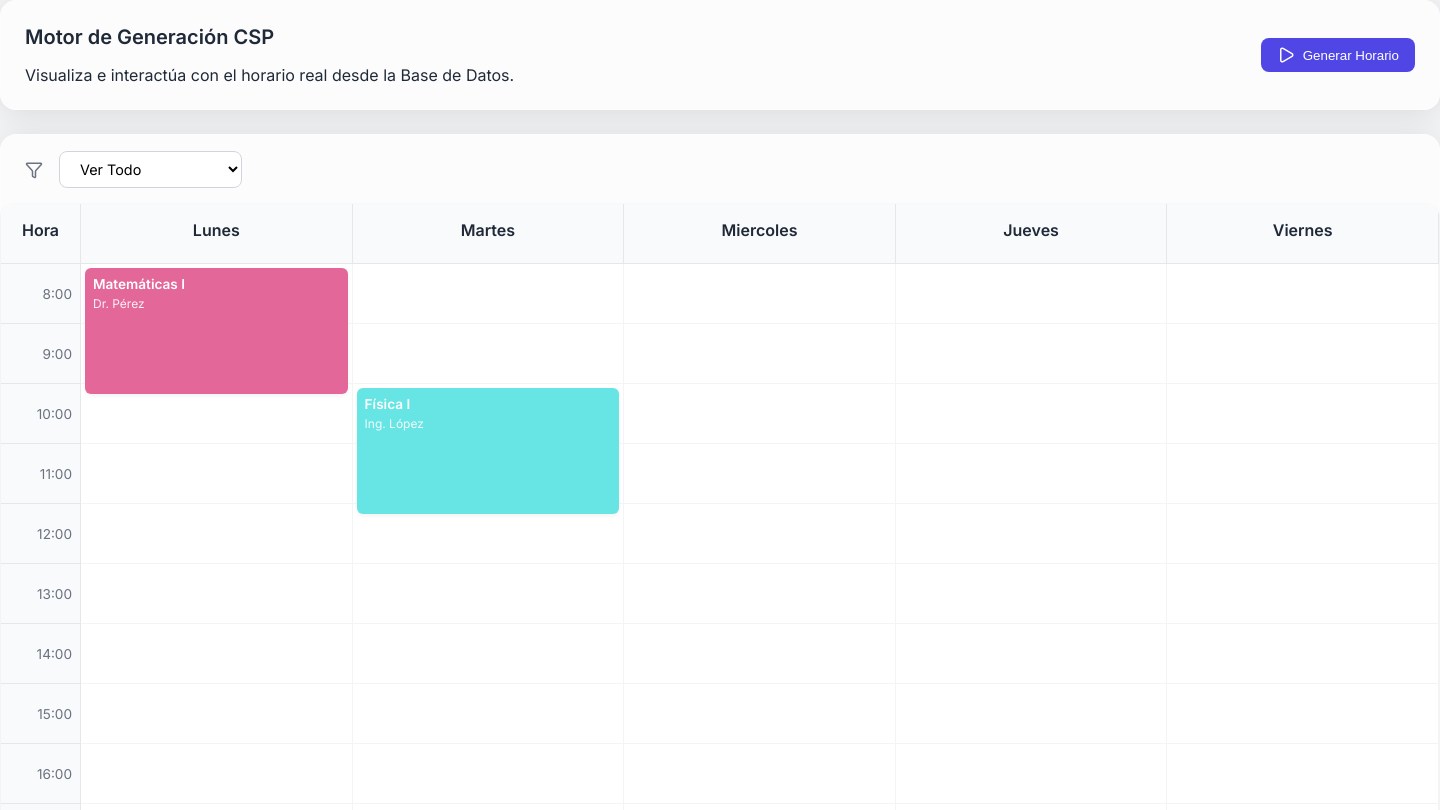
Test case: ScheduleGrid › cierra modal al hacer click en Cerrar
What coordinates should you click on to do the following:
click the text "Dr. Pérez"
I would click on:
 (119, 304)
Its box is [93,296,145,311].
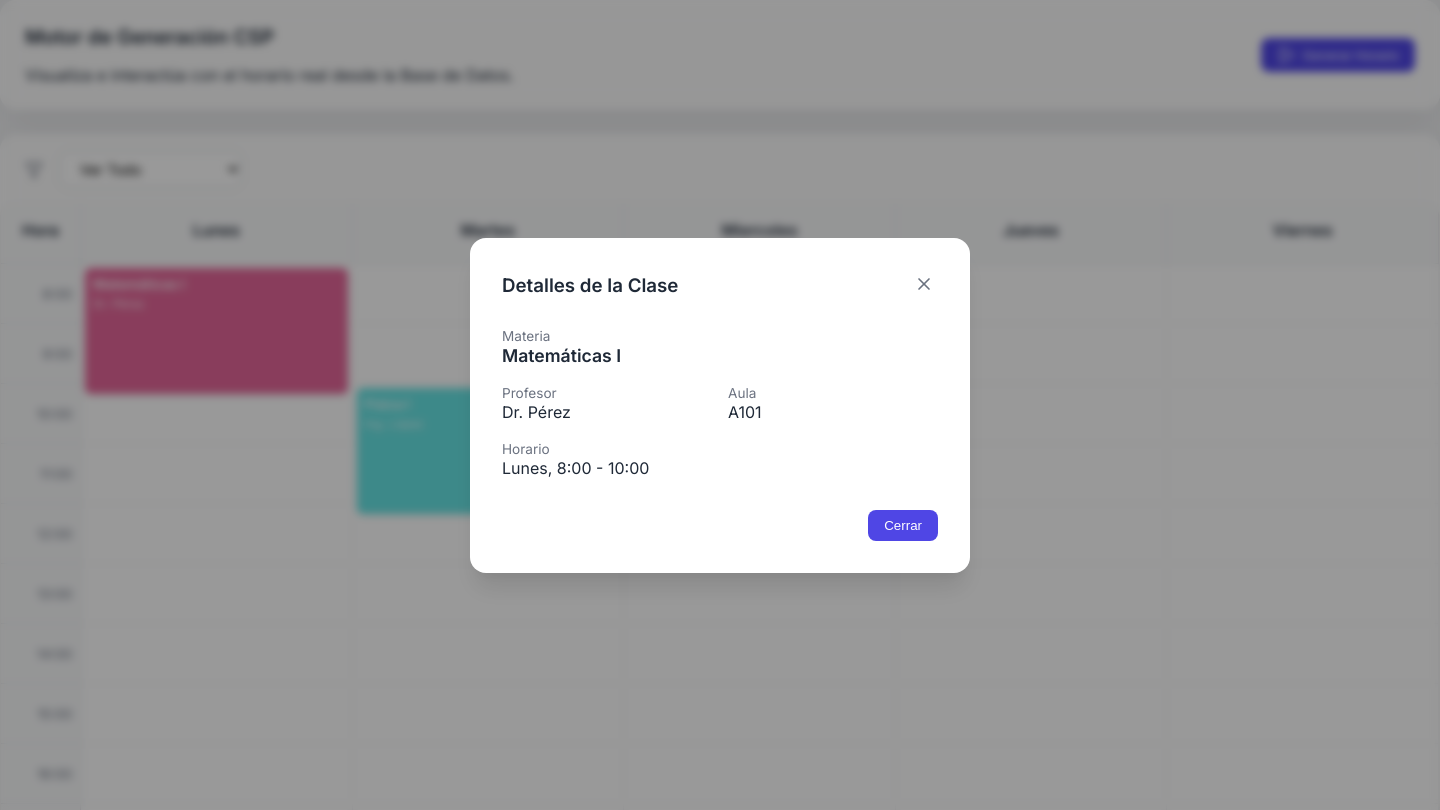
What coordinates should you click on to do the following:
click the button "Cerrar"
I would click on:
 (903, 525)
Its box is [868,510,938,540].
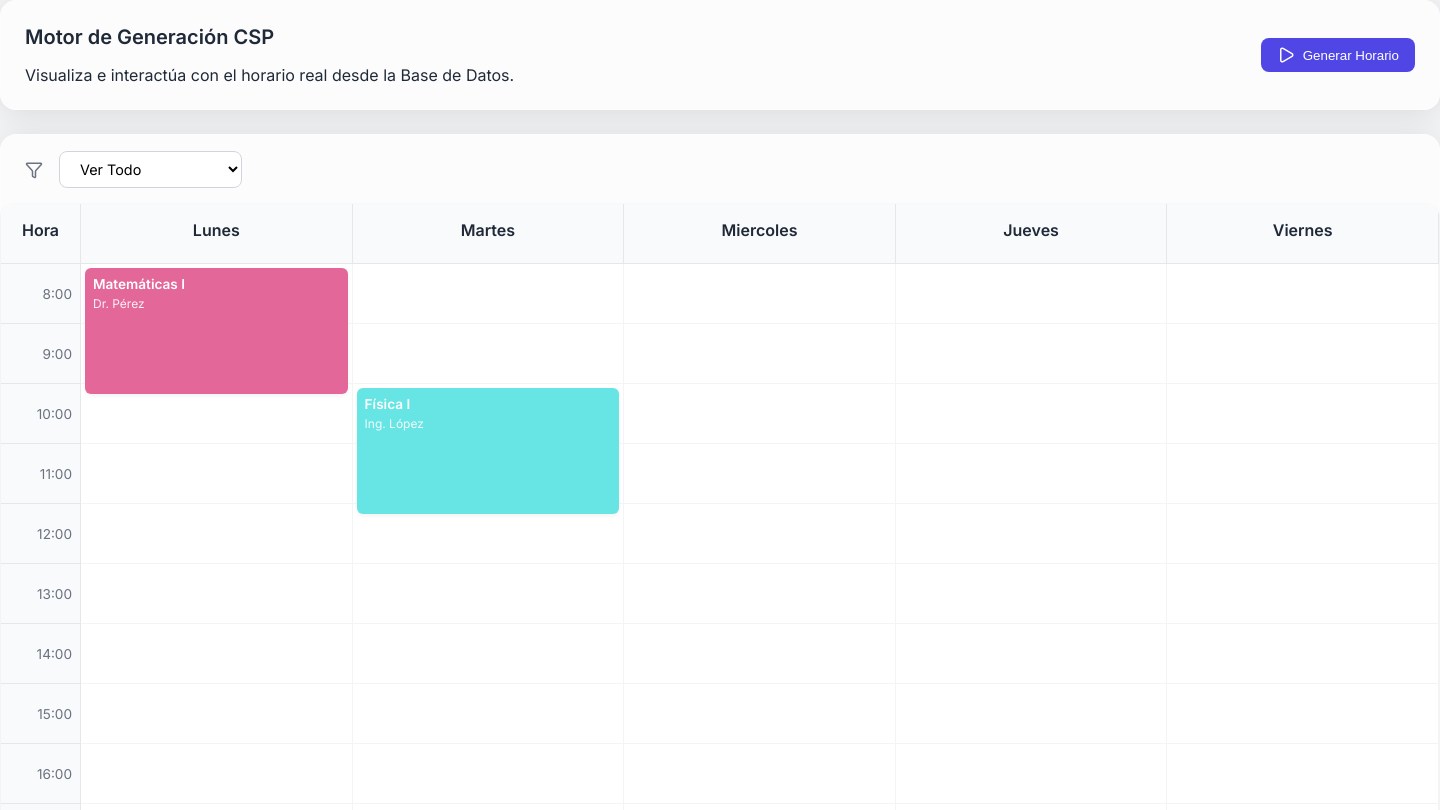
Expected: the heading "Detalles de la Clase" is gone
